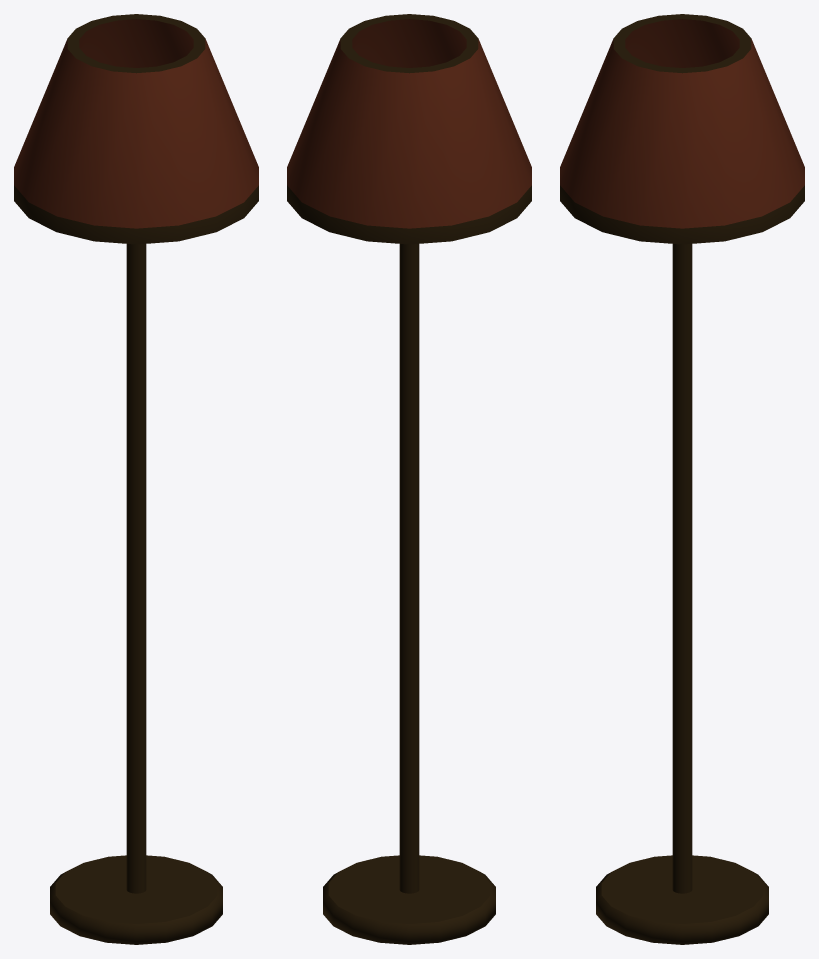
The model's file is Lampa_A.fbx.
3 views of the same model, side by side, from view 1: azimuth 30°, elevation 25°; view 2: azimuth 150°, elevation 25°; view 3: azimuth 270°, elevation 25° (orthographic).
Visible parts, largest first — view 1: Lampa_A; view 2: Lampa_A; view 3: Lampa_A.
Boxes of the visible parts, x1=… form: Lampa_A: x1=14, y1=14, x2=258, y2=944; Lampa_A: x1=287, y1=14, x2=531, y2=944; Lampa_A: x1=560, y1=14, x2=804, y2=944.
Bounding box in the file's own units: 39.91 × 153 × 39.31.
